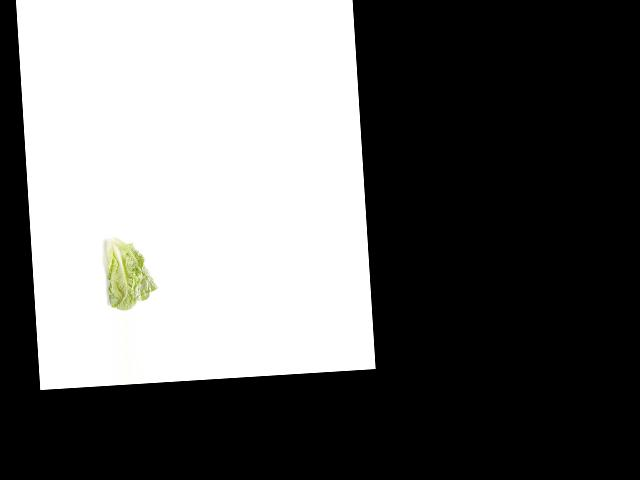lettuce: (92, 231, 159, 312)
